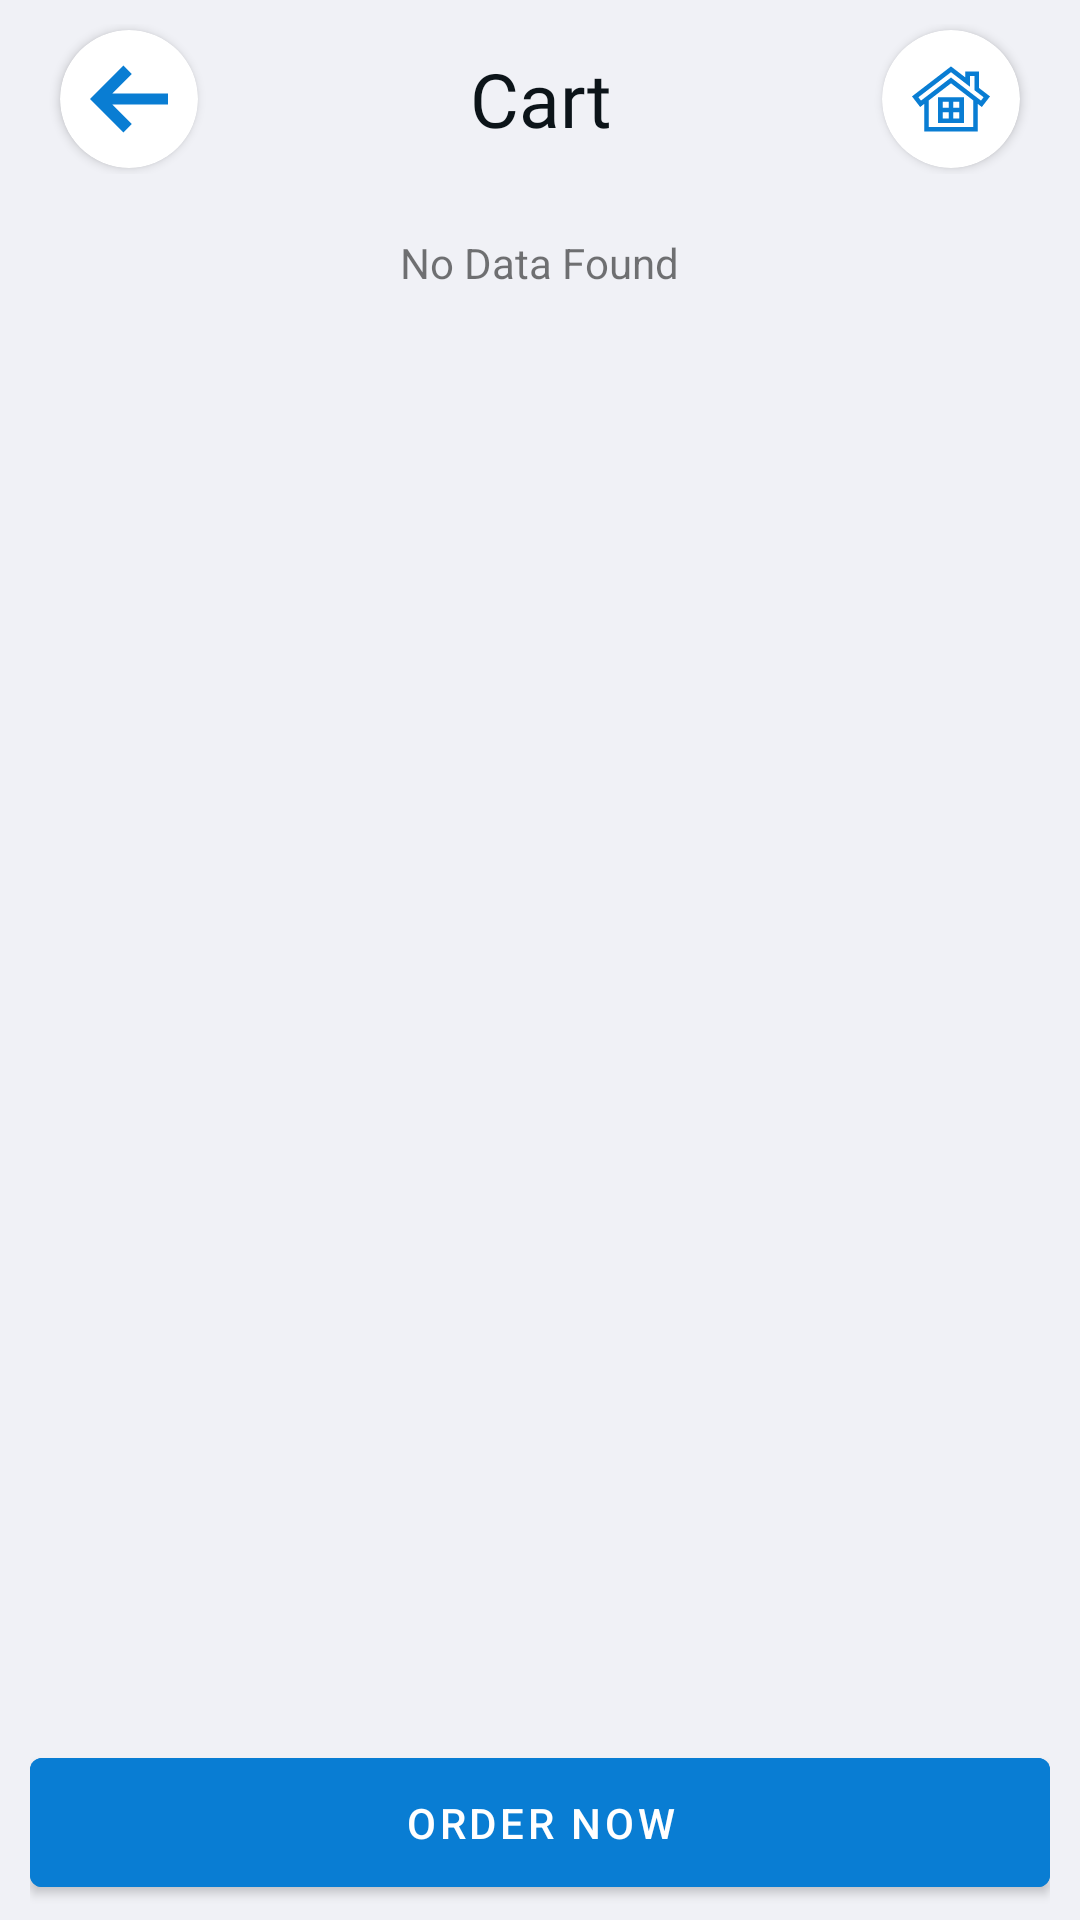

Where to tap for icons on this 1080×1920 app screen, as point (x, y):
house: point (951, 99)
left arrow: point (129, 99)
